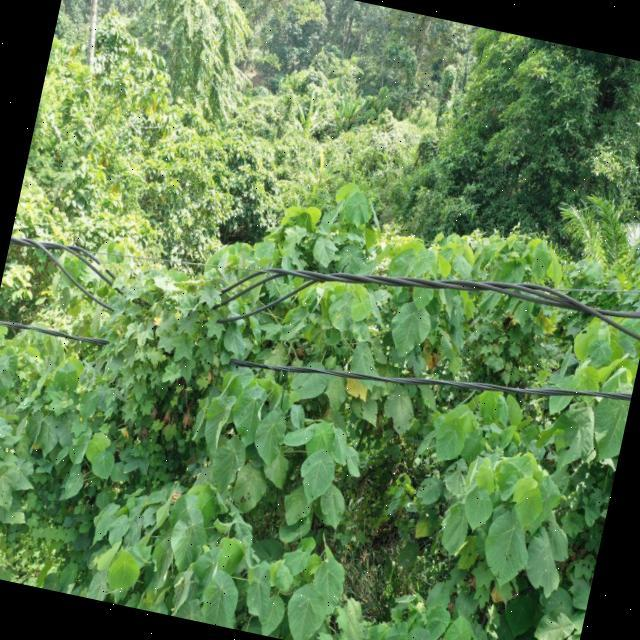critical vegetation: (74, 237, 258, 406)
